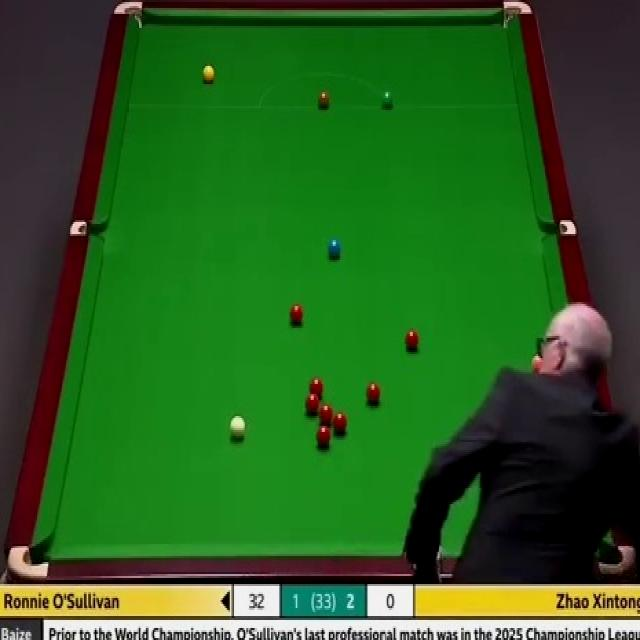blue-ball: (328, 239, 341, 261)
brown-ball: (318, 93, 330, 110)
green-ball: (382, 90, 393, 110)
pink-ball: (532, 355, 544, 372)
red-ball: (288, 300, 305, 326), (315, 425, 331, 449), (405, 327, 420, 352), (317, 404, 333, 426), (308, 377, 324, 399), (367, 382, 381, 407), (304, 393, 320, 413), (334, 411, 347, 435)
white-ball: (230, 416, 246, 439)
yellow-ball: (202, 66, 216, 86)
